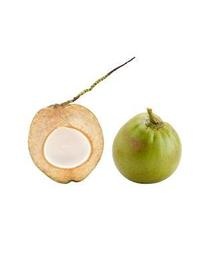coconut: (24, 93, 108, 192), (113, 108, 194, 192)
